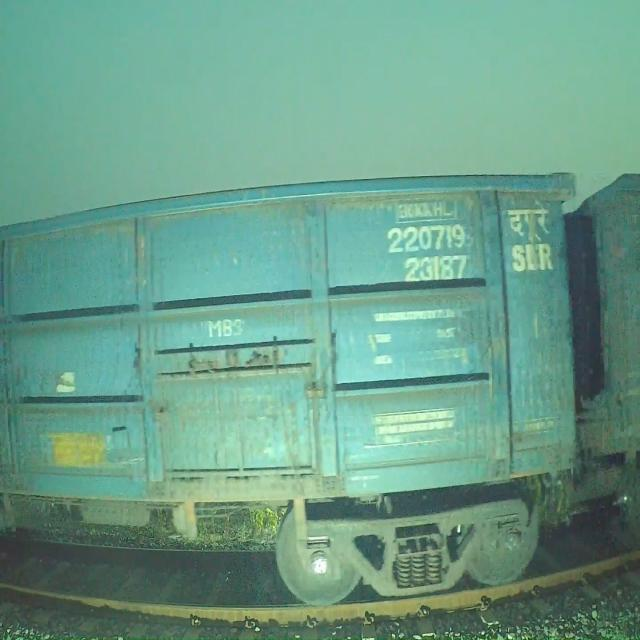WAgon-uic: (0, 156, 581, 611), (548, 166, 640, 558)
uic: (382, 218, 479, 289)
